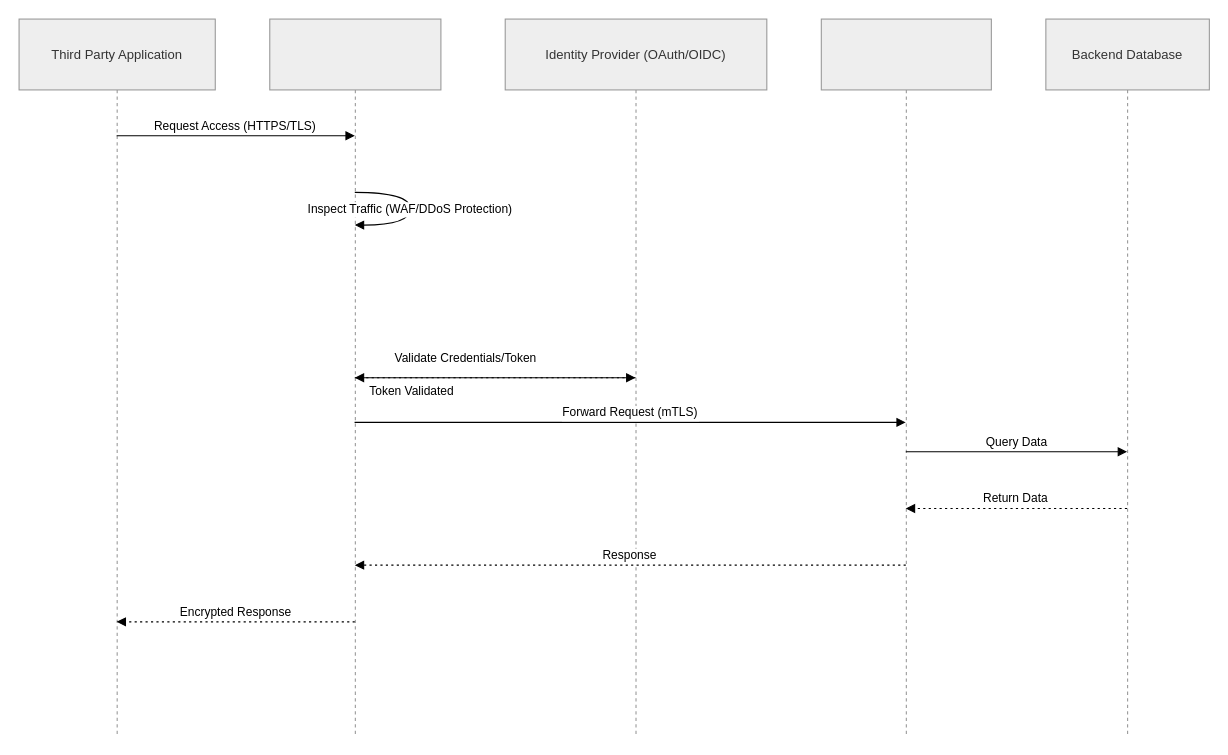
The diagram is 1228 pixels wide and 755 high, and some of its shapes have lost their labels. Each missing label, with the box of its shape:
API Gateway / WAF: (269, 18, 441, 736)
Internal API Service: (820, 18, 991, 736)
